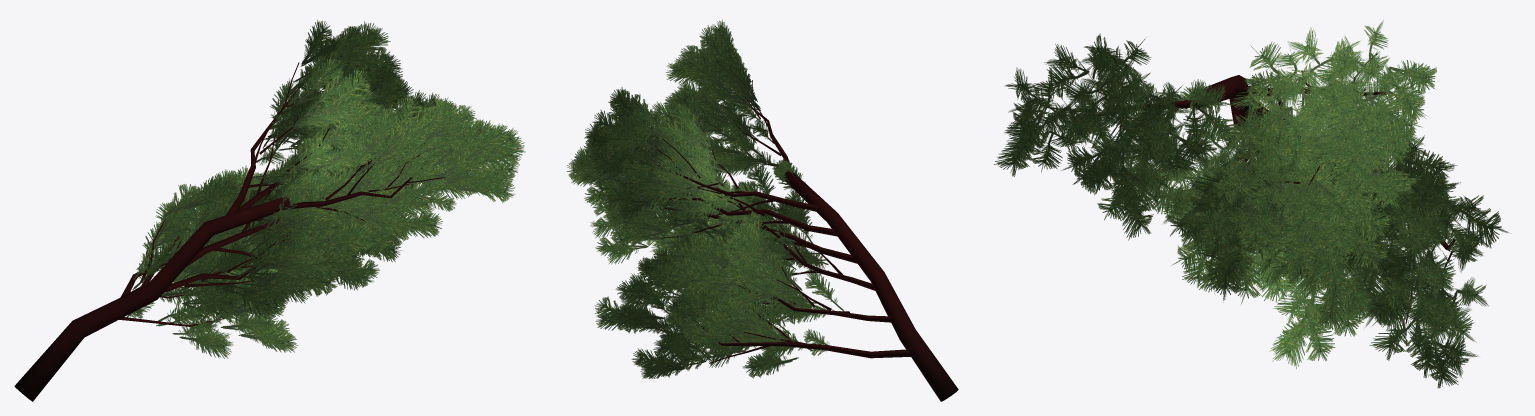
File: krummholz_pine_v02_LOD1.glb
3 views of the same model, side by side, from view 1: azimuth 30°, elevation 25°; view 2: azimuth 150°, elevation 25°; view 3: azimuth 270°, elevation 25° (orthographic). The views are drawn at different scales.
Visible parts, largest first — view 1: krummholz_pine_v02_LOD1; view 2: krummholz_pine_v02_LOD1; view 3: krummholz_pine_v02_LOD1.
Part boxes in pixels (<box>): krummholz_pine_v02_LOD1: <box>14,20,525,401</box>; krummholz_pine_v02_LOD1: <box>567,19,958,401</box>; krummholz_pine_v02_LOD1: <box>994,20,1508,388</box>.
Size of the model in its own units: 4.17 by 2.71 by 3.21.
Materials: 2 (2 with a texture image).
